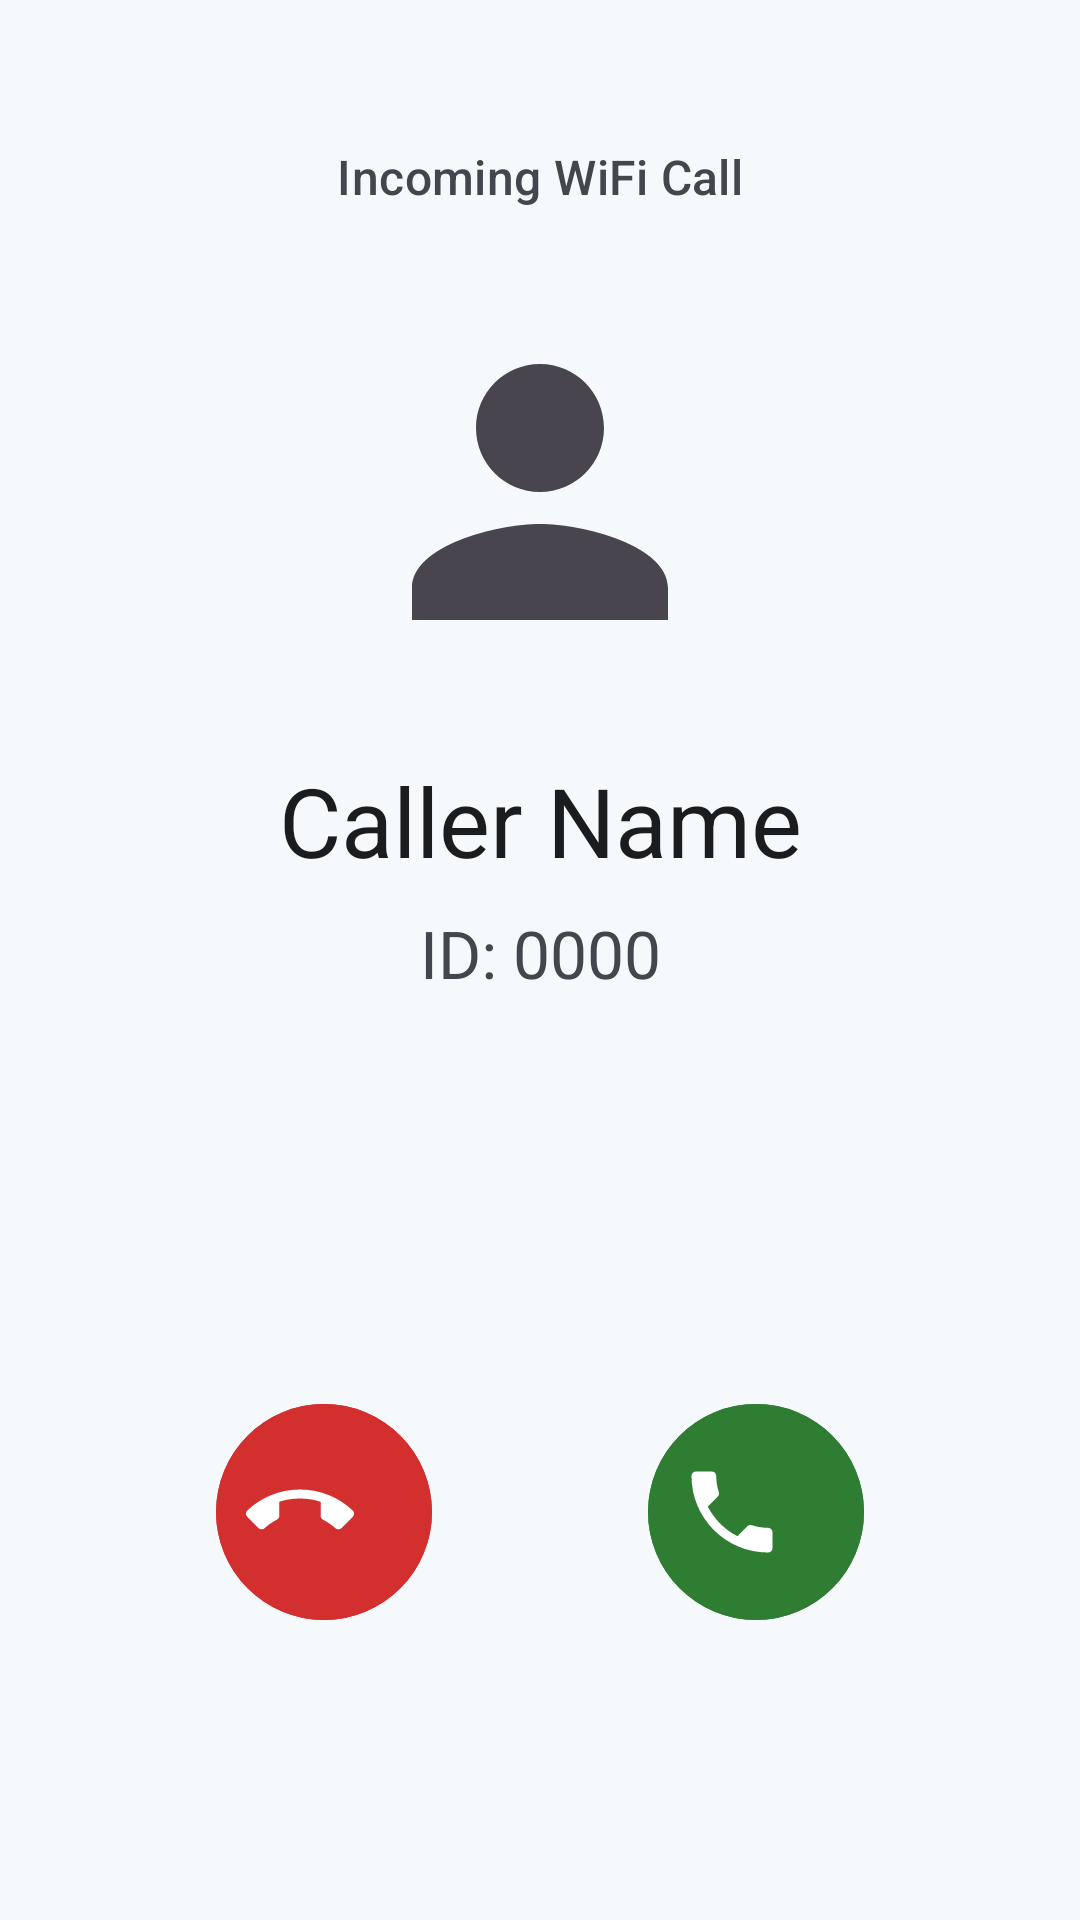

Where icons sit on this 1080w x 1920h app screen, as (x1, y1, x2, y2):
call end: (216, 1404, 432, 1620)
